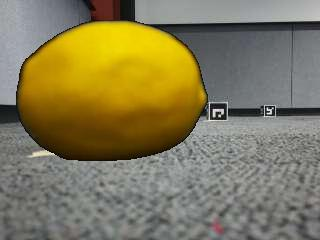lemon: (21, 23, 208, 162)
